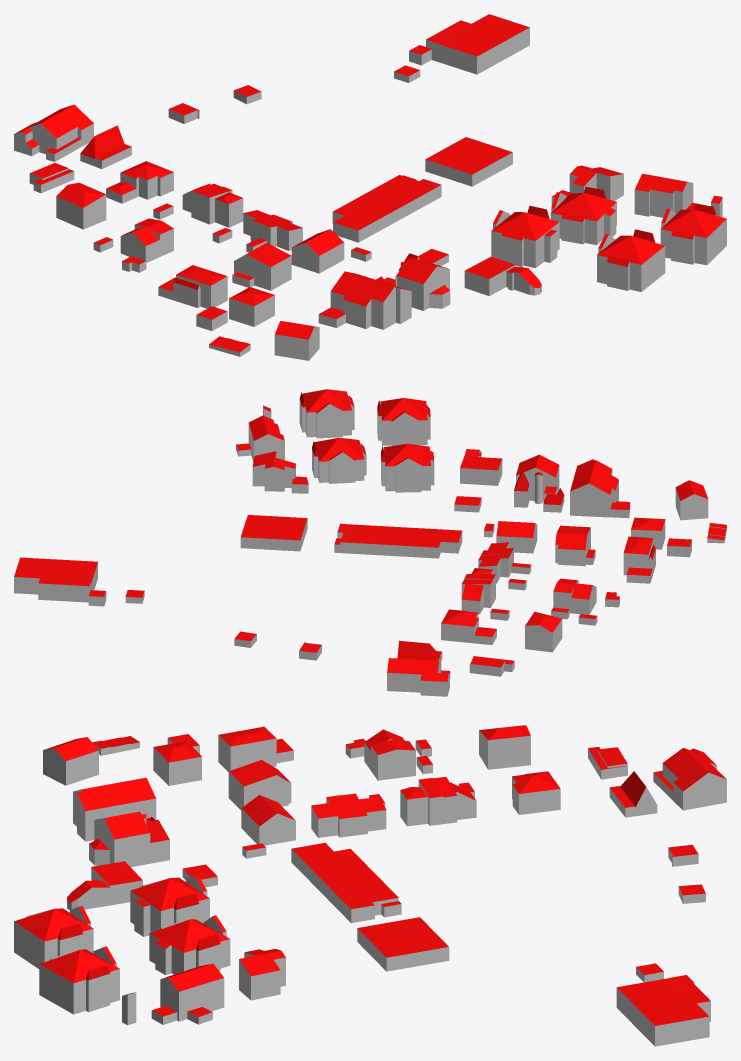
3 renders of one model, top to bottom at view 1: azimuth 30°, elevation 25°; view 2: azimuth 150°, elevation 25°; view 3: azimuth 270°, elevation 25°, orthographic. The views are drawn at different scales.
Size of the model in its own units: 202 by 14.64 by 198.
